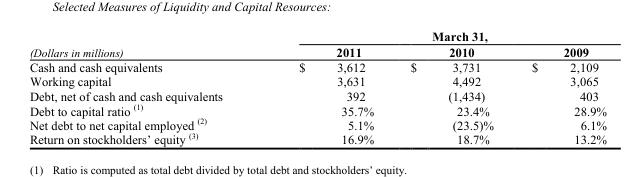table: (28, 29, 606, 146)
table column: (28, 29, 260, 146), (260, 29, 391, 146), (391, 29, 511, 146), (511, 29, 606, 146)
table column header: (28, 29, 606, 59)
table row: (28, 43, 606, 59), (28, 73, 606, 88), (28, 116, 606, 131), (28, 131, 606, 146), (28, 29, 606, 43), (28, 59, 606, 73), (28, 88, 606, 102), (28, 102, 606, 116)
table spanning cell: (28, 29, 260, 59), (260, 29, 606, 43)
